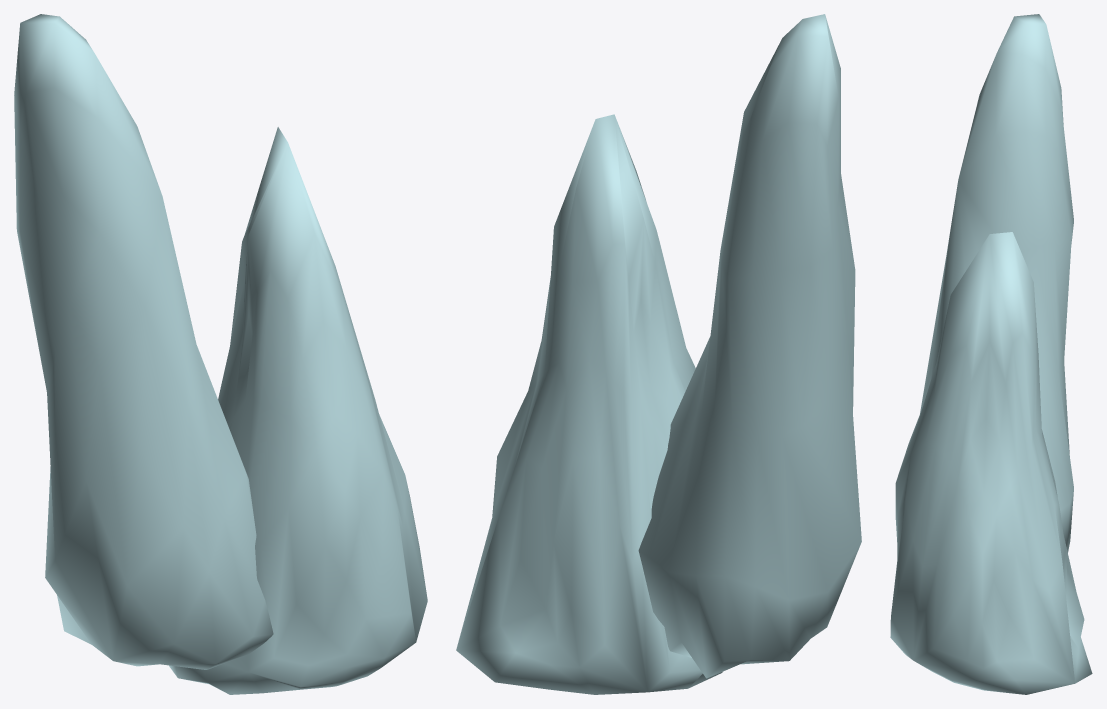
The model's file is blender env assets med ice spike 1.fbx.
The picture shows the model from 3 angles, left to right: view 1: azimuth 30°, elevation 25°; view 2: azimuth 150°, elevation 25°; view 3: azimuth 270°, elevation 25°; orthographic projection. The views are drawn at different scales.
Visible parts, largest first — view 1: rock.042; view 2: rock.042; view 3: rock.042.
Boxes of the visible parts, x1,y1,x2,y2 form: rock.042: (14,14,427,694); rock.042: (456,14,861,694); rock.042: (890,14,1092,694).
Size of the model in its own units: 123 by 228 by 74.72.
